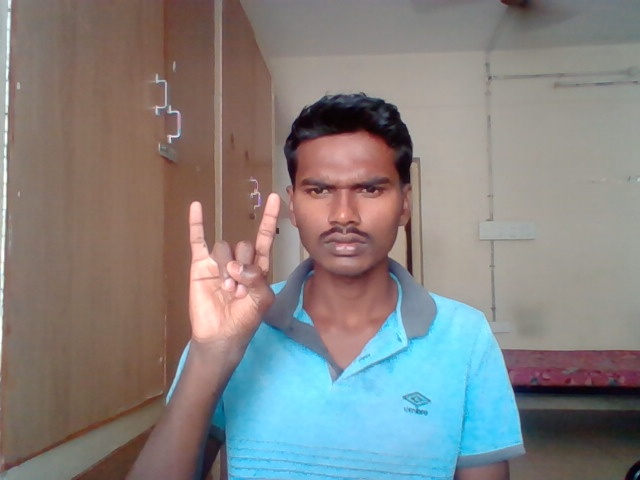I Love You: (184, 191, 285, 343)
